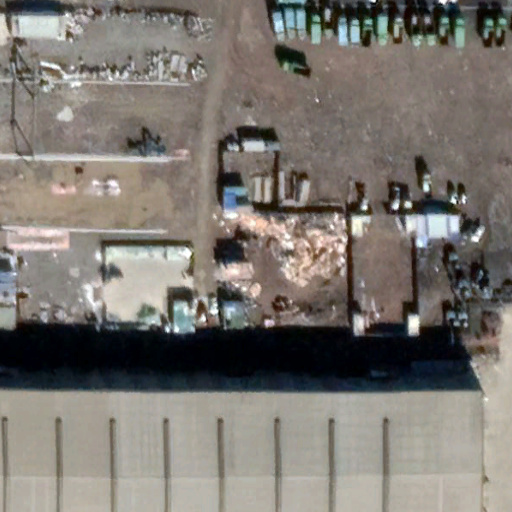msw: (220, 204, 351, 295)
